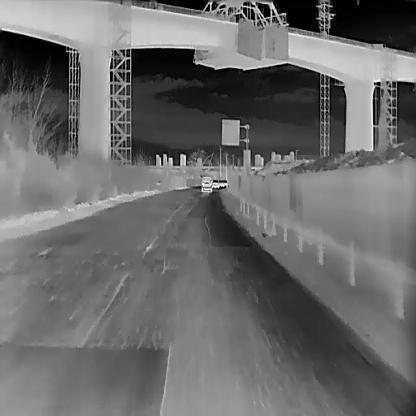car: (201, 176, 211, 191), (211, 179, 219, 189), (220, 180, 228, 186)
